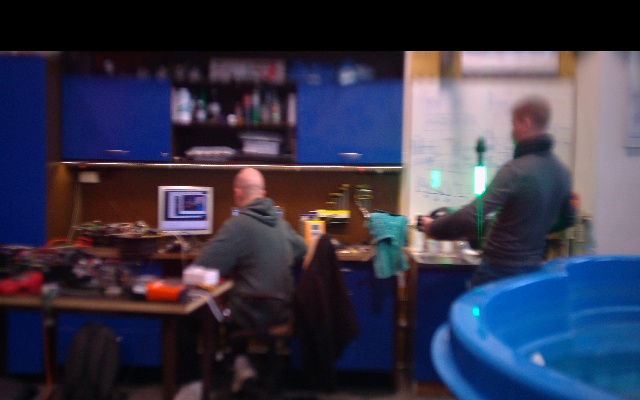green: (472, 165, 486, 195)
